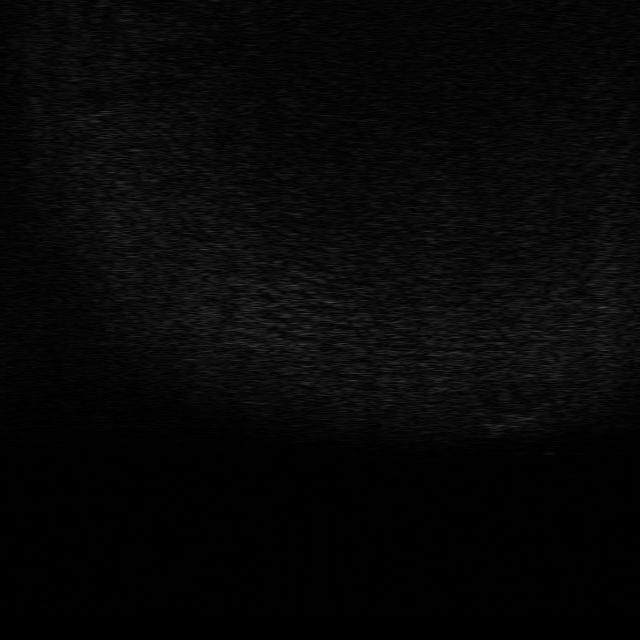plane: (472, 396, 554, 436)
